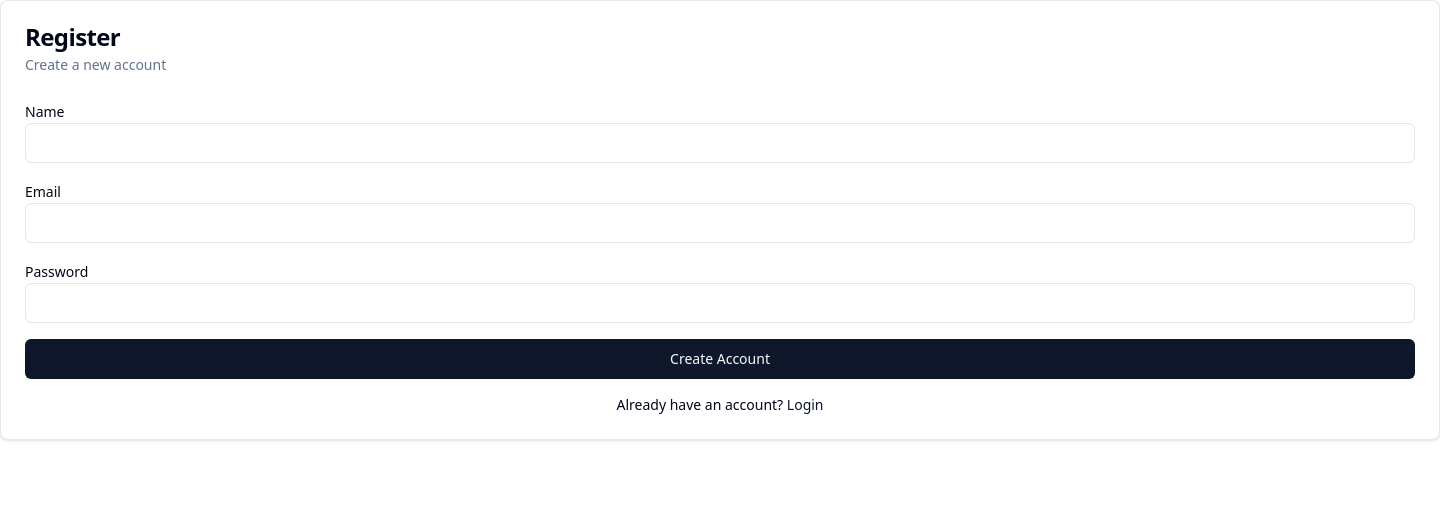
Test: Register Page › should show validation errors for empty submit
This screenshot has width=1440, height=530.
Click the button "Create Account".
click(720, 359)  # box [25,339,1415,379]
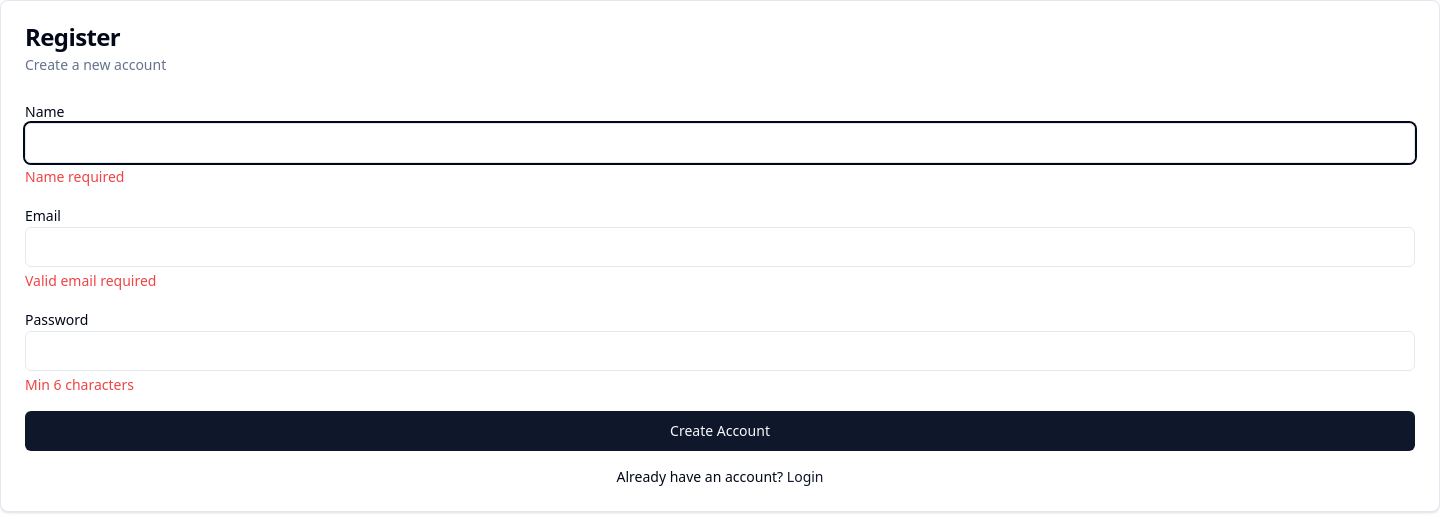
Expected: the text "Name required" is shown, [25,167,124,186]
Expected: the text "Valid email required" is shown, [25,271,156,290]
Expected: the text "Min 6 characters" is shown, [25,375,134,394]
